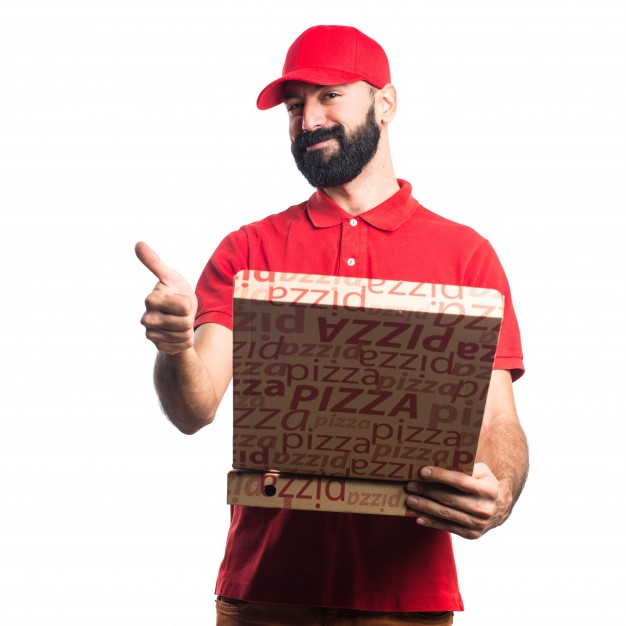thumbsup: (135, 241, 194, 355)
